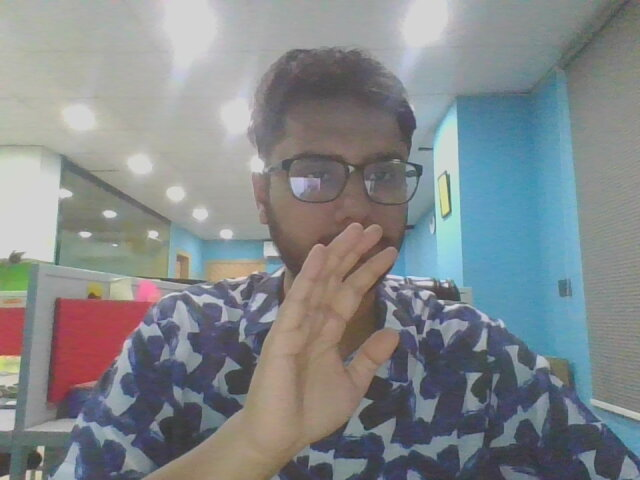hello: (244, 219, 437, 470)
